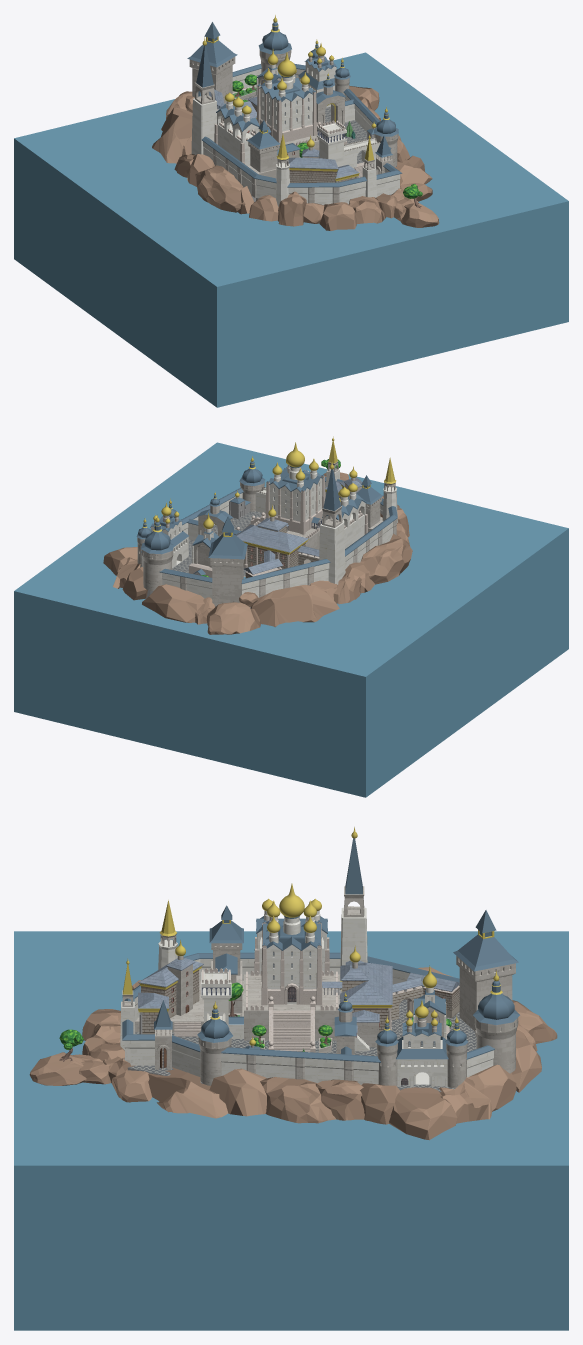
File: Castle.fbx
The picture shows the model from 3 angles, top to bottom: view 1: azimuth 30°, elevation 25°; view 2: azimuth 150°, elevation 25°; view 3: azimuth 270°, elevation 25°; orthographic projection. The views are drawn at different scales.
Visible parts, largest first — view 1: pasted__pCube293, Walls, Cube.037, Cube.041, polySurface301, pCube241, Columns, Cube.052, pCube164, pCube162, group12_polySurface107, Cube.033 (+16 smaller); view 2: pasted__pCube293, Cube.041, Walls, Cube.042, Cube.037, Cube.044, group12_polySurface107, pCube164, polySurface301, pCube241, polySurface296, pCube162 (+12 smaller); view 3: pasted__pCube293, Walls, group12_polySurface107, Cube.050, Cube.055, Cube.047, pCube224, pCube164, Cube.048, polySurface301, pCube162, pCube219 (+26 smaller).
Part boxes in pixels (x1,y1,x2,y2): pasted__pCube293: (14,52,568,407); Walls: (203,69,400,205); Cube.037: (195,165,245,212); Cube.041: (152,107,192,163); polySurface301: (260,87,312,131); pCube241: (191,98,217,154); Columns: (256,77,316,143); Cube.052: (319,202,356,230); pCube164: (189,57,235,103); pCube162: (187,22,237,67); group12_polySurface107: (259,50,398,166); Cube.033: (278,191,306,226); pasted__pCube293: (14,442,568,797); Cube.041: (250,585,339,626); Walls: (142,482,393,599); Cube.042: (142,584,204,622); Cube.037: (360,538,412,584); Cube.044: (206,602,260,634); group12_polySurface107: (137,482,264,591); pCube164: (210,558,244,605); polySurface301: (269,478,322,521); pCube241: (319,522,345,584); polySurface296: (236,524,308,552); pCube162: (208,516,247,559); pasted__pCube293: (14,931,568,1330); Walls: (124,959,493,1084); group12_polySurface107: (198,1017,518,1088); Cube.050: (389,1087,457,1140); Cube.055: (148,1067,228,1118); Cube.047: (260,1077,336,1123); pCube224: (244,974,339,1040); pCube164: (456,956,515,1031); Cube.048: (209,1068,266,1116); polySurface301: (266,944,317,1003); pCube162: (453,910,518,971); pCube219: (273,1010,310,1052).
Size of the model in its own units: 50.01 by 34.3 by 50.01.
25 materials, 11 textured.
